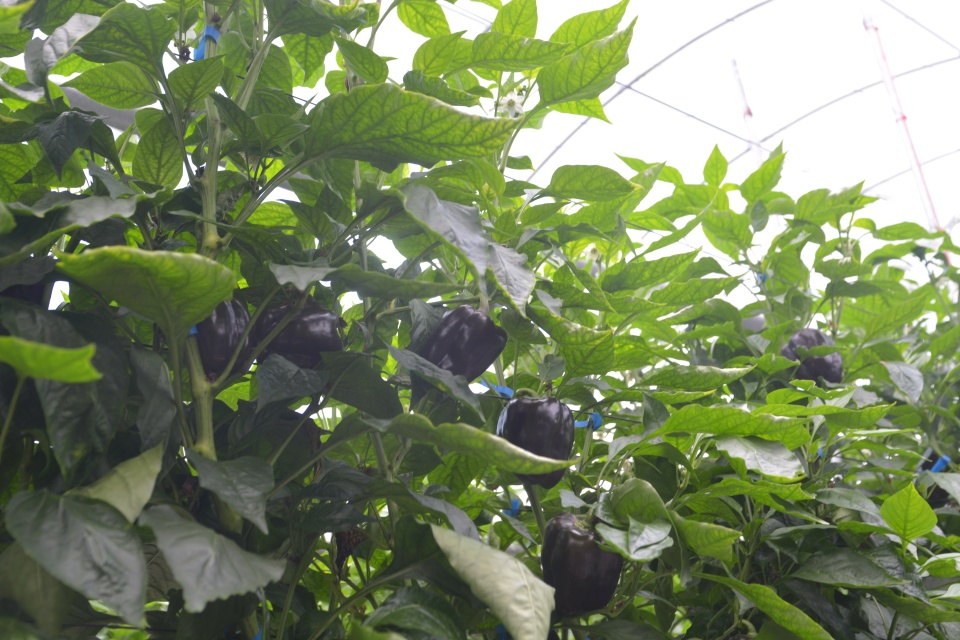flower: (496, 89, 526, 119), (173, 21, 198, 44)
fruit: (540, 512, 623, 619), (418, 305, 507, 395), (495, 395, 575, 490), (254, 304, 345, 362), (196, 297, 252, 376), (780, 328, 845, 390)
pedicle: (575, 518, 592, 530)
